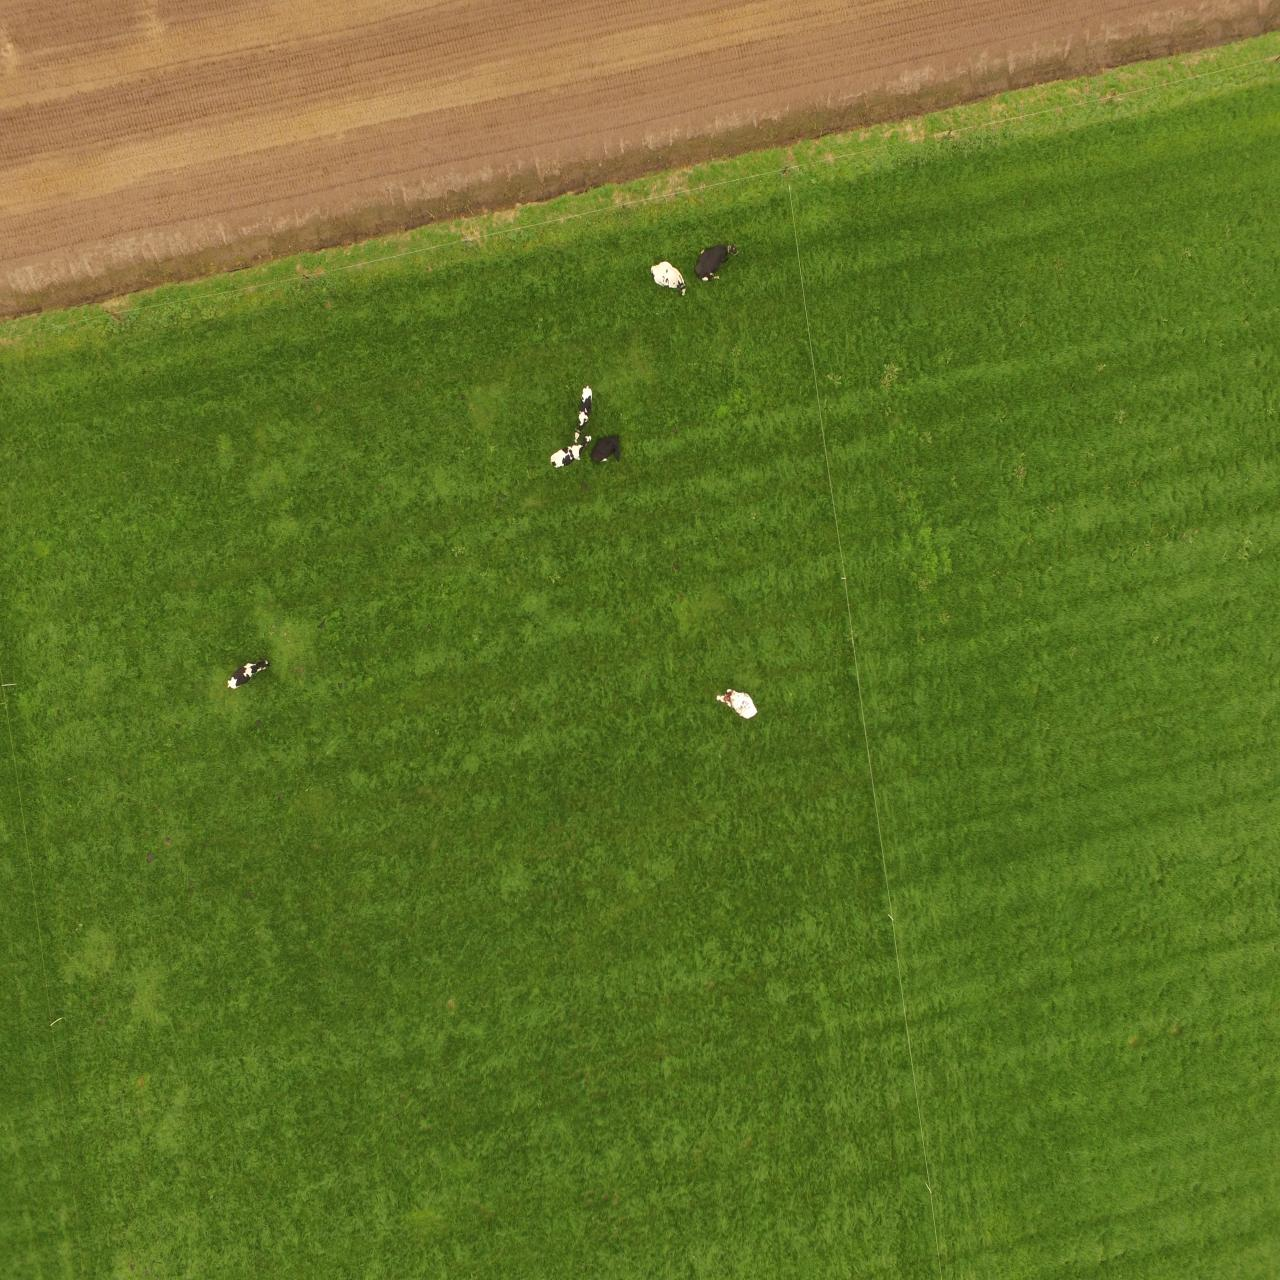cow: (692, 237, 745, 285), (645, 260, 690, 298), (218, 658, 270, 690), (547, 434, 592, 471), (715, 686, 744, 724), (592, 434, 625, 464), (578, 383, 595, 430)
